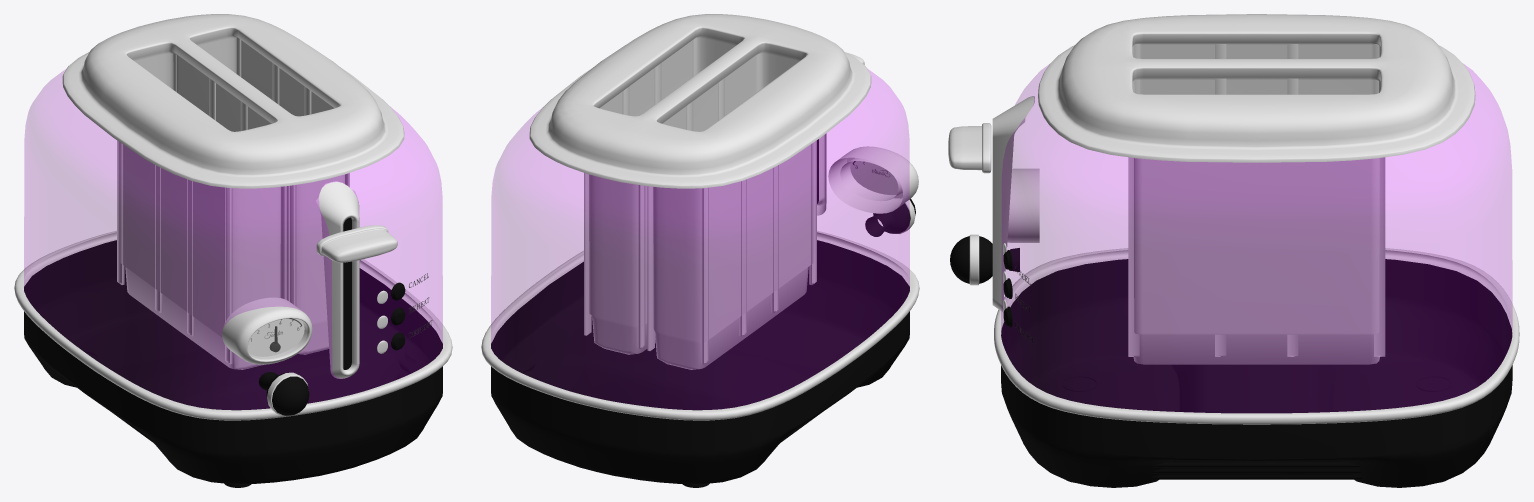
File: toasterM1.glb
3 renders of one model, left to right at view 1: azimuth 30°, elevation 25°; view 2: azimuth 150°, elevation 25°; view 3: azimuth 270°, elevation 25°, orthographic. The views are drawn at different scales.
Parts seen in each view (by area): view 1: Cube_Color_0.001, Cube_Metal_0.001, Cube_BlackPlastic_0.001, Cube.001_Metal_0.001, Cylinder_Metal_0.001, Cube.010_Metal_0.001, Cube.008_Metal_0.001, Cube.012_Glass_0.001, Cube.007_Metal_0.001, Cube.005_Metal_0.001, Plane.001_Label_0.001, Sphere_BlackPlastic_0.001 (+4 smaller); view 2: Cube_Color_0.001, Cube_Metal_0.001, Cube_BlackPlastic_0.001, Cube.001_Metal_0.001, Cube.010_Metal_0.001, Cube.007_Metal_0.001, Cube.005_Metal_0.001, Cube.006_Metal_0.001, Plane.001_Label_0.001, Sphere_BlackPlastic_0.001, Cylinder_Metal_0.001, Cube.004_Metal_0.001; view 3: Cube_Color_0.001, Cube_Metal_0.001, Cube_BlackPlastic_0.001, Cube.001_Metal_0.001, Cube.013_BlackPlastic_0.001, Cylinder_Metal_0.001, Cube.007_Metal_0.001, Cube.010_Metal_0.001, Cube.008_Metal_0.001, Sphere_BlackPlastic_0.001, Cube.006_Metal_0.001.
Boxes of the visible parts, x1,y1,x2,y2 form: Cube_Color_0.001: [24, 69, 442, 409]; Cube_Metal_0.001: [62, 14, 404, 369]; Cube_BlackPlastic_0.001: [24, 240, 442, 484]; Cube.001_Metal_0.001: [14, 230, 452, 420]; Cylinder_Metal_0.001: [316, 181, 359, 378]; Cube.010_Metal_0.001: [222, 297, 312, 364]; Cube.008_Metal_0.001: [316, 225, 397, 262]; Cube.012_Glass_0.001: [248, 318, 307, 358]; Cube.007_Metal_0.001: [117, 37, 349, 364]; Cube.005_Metal_0.001: [173, 54, 296, 306]; Plane.001_Label_0.001: [248, 318, 304, 356]; Sphere_BlackPlastic_0.001: [258, 370, 309, 415]; Cube_Color_0.001: [491, 69, 909, 409]; Cube_Metal_0.001: [529, 14, 871, 369]; Cube_BlackPlastic_0.001: [491, 240, 909, 484]; Cube.001_Metal_0.001: [481, 230, 919, 420]; Cube.010_Metal_0.001: [828, 146, 918, 213]; Cube.007_Metal_0.001: [584, 37, 816, 364]; Cube.005_Metal_0.001: [637, 54, 760, 350]; Cube.006_Metal_0.001: [622, 63, 778, 336]; Plane.001_Label_0.001: [847, 157, 902, 198]; Sphere_BlackPlastic_0.001: [865, 199, 915, 236]; Cylinder_Metal_0.001: [817, 133, 826, 215]; Cube.004_Metal_0.001: [686, 78, 724, 130]; Cube_Color_0.001: [1001, 65, 1512, 412]; Cube_Metal_0.001: [1038, 14, 1475, 364]; Cube_BlackPlastic_0.001: [1001, 259, 1512, 487]; Cube.001_Metal_0.001: [994, 248, 1519, 424]; Cube.013_BlackPlastic_0.001: [1151, 364, 1361, 479]; Cylinder_Metal_0.001: [992, 96, 1034, 312]; Cube.007_Metal_0.001: [1128, 44, 1385, 356]; Cube.010_Metal_0.001: [1007, 168, 1039, 242]; Cube.008_Metal_0.001: [948, 123, 991, 173]; Sphere_BlackPlastic_0.001: [950, 236, 1019, 283]; Cube.006_Metal_0.001: [1215, 44, 1298, 356].
Size of the model in its own units: 2.79 by 2.79 by 3.87.
17 materials, 3 textured.
